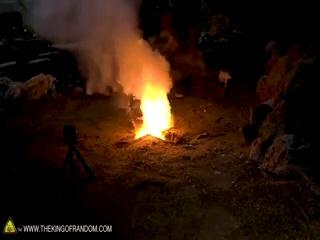Fire: (130, 78, 173, 141)
